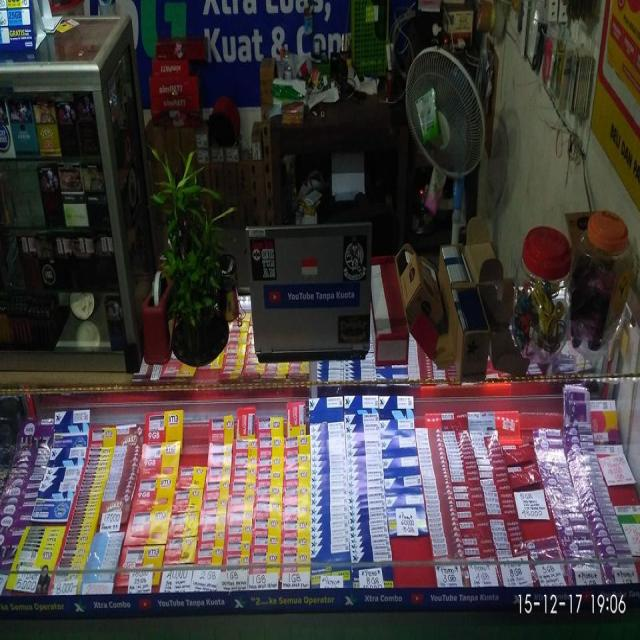Axis: (8, 414, 66, 519)
Gratis Nelpon: (309, 396, 416, 568)
im3: (144, 407, 310, 580), (17, 524, 67, 578), (68, 519, 94, 569), (75, 492, 102, 517), (83, 470, 111, 490), (90, 448, 114, 466), (93, 429, 117, 446)
smartfren: (432, 422, 528, 548)
